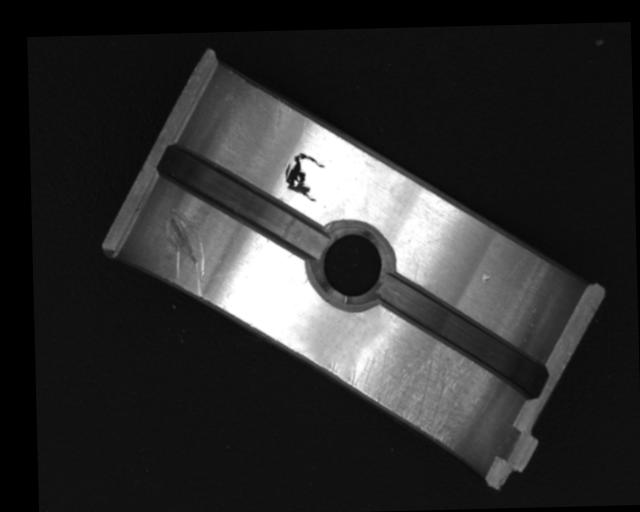blot: (283, 151, 326, 204)
bruise: (481, 272, 492, 284)
gap: (376, 272, 549, 402), (156, 142, 322, 263)
hole: (310, 221, 397, 306)
nick: (162, 206, 206, 299)
scratch: (328, 341, 495, 455)
